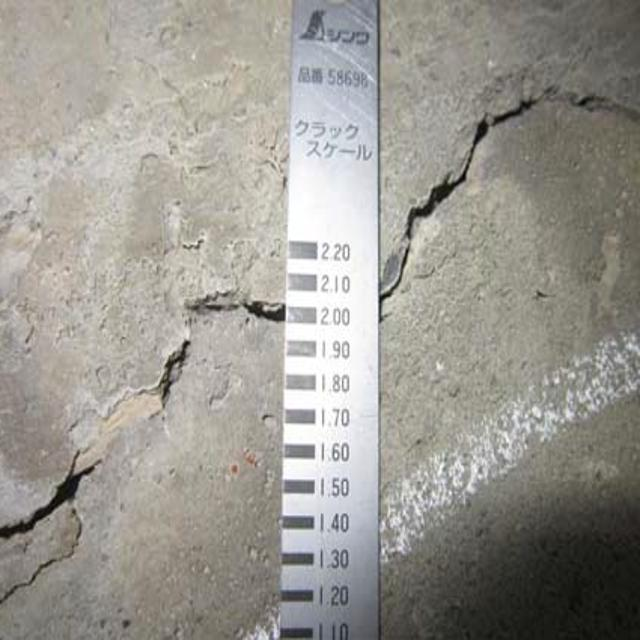crack: (4, 272, 276, 578), (387, 44, 640, 304)
